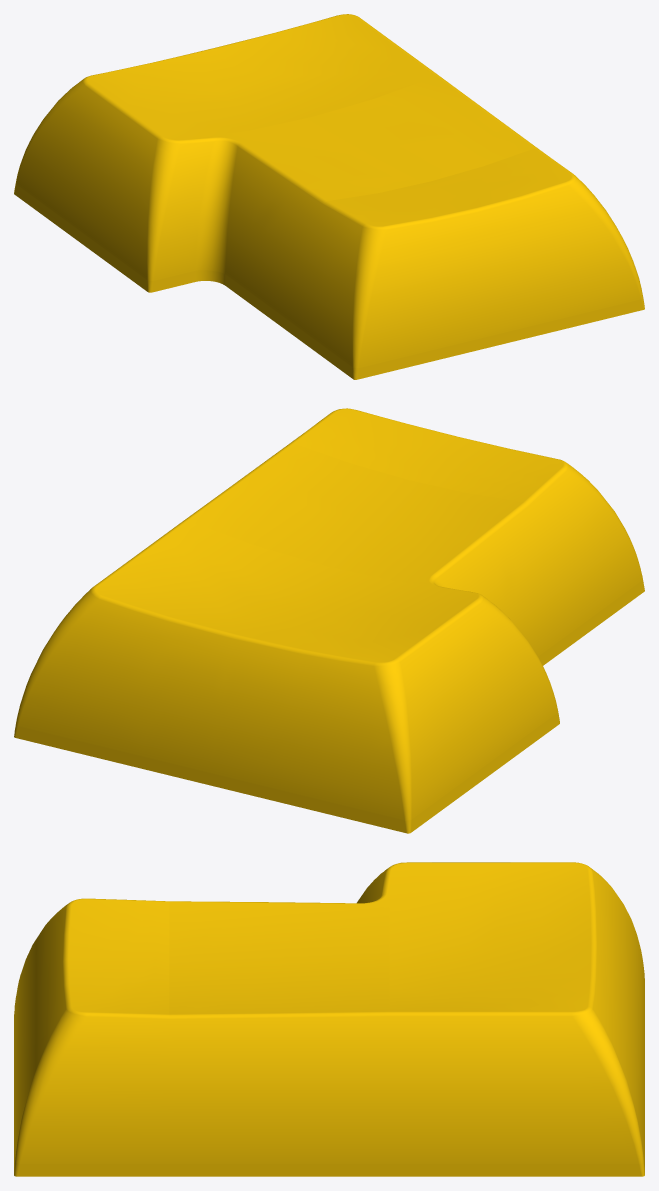
Rendered from ISO_ENTER_compressed.glb.
3 views of the same model, one above another, from view 1: azimuth 30°, elevation 25°; view 2: azimuth 150°, elevation 25°; view 3: azimuth 270°, elevation 25° (orthographic). The views are drawn at different scales.
Visible parts, largest first — view 1: Body109; view 2: Body109; view 3: Body109.
Part boxes in pixels (x1=…): Body109: x1=14, y1=14, x2=644, y2=379; Body109: x1=14, y1=408, x2=644, y2=833; Body109: x1=14, y1=862, x2=644, y2=1176.
Size of the model in its own units: 27.6 by 9.12 by 37.2.
